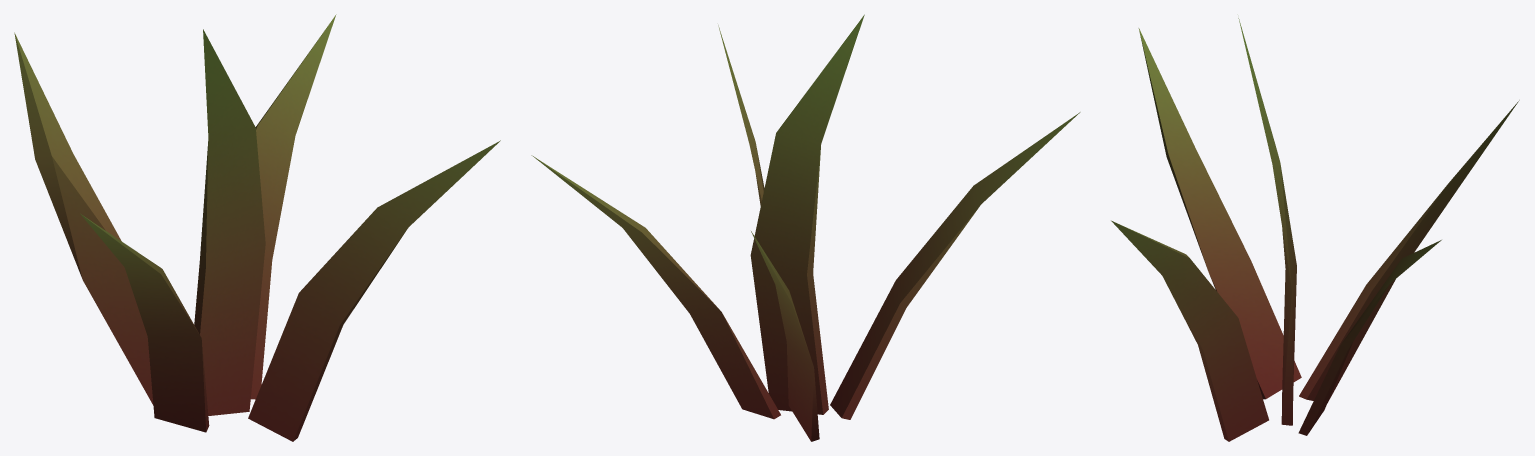
File: Dry_grass.FBX
3 views of the same model, side by side, from view 1: azimuth 30°, elevation 25°; view 2: azimuth 150°, elevation 25°; view 3: azimuth 270°, elevation 25° (orthographic). The views are drawn at different scales.
Parts seen in each view (by area): view 1: dry_grass; view 2: dry_grass; view 3: dry_grass.
Part boxes in pixels (<box>): dry_grass: <box>14,14,500,441</box>; dry_grass: <box>531,14,1080,441</box>; dry_grass: <box>1111,18,1519,441</box>.
Size of the model in its own units: 1.22 by 1.18 by 1.13.
